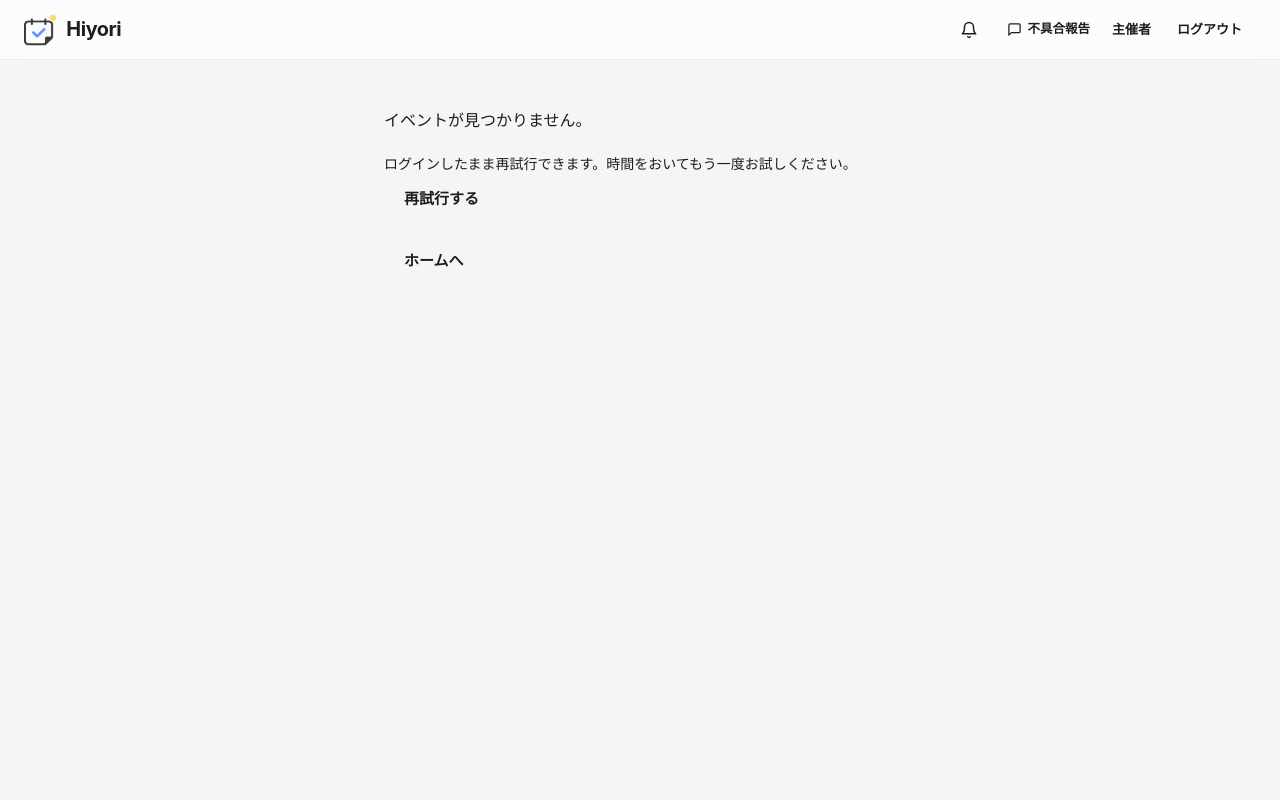
Test: 実際のセッション確認の一時失敗 › HTTP 500 は既存セッションを消さず、ログインしたままイベントを再試行できる
Check: the link "主催者" is shown, box 1112,20 -> 1151,39
Step 1. Click the button "再試行する" → (442, 199), box 384,176 -> 499,222
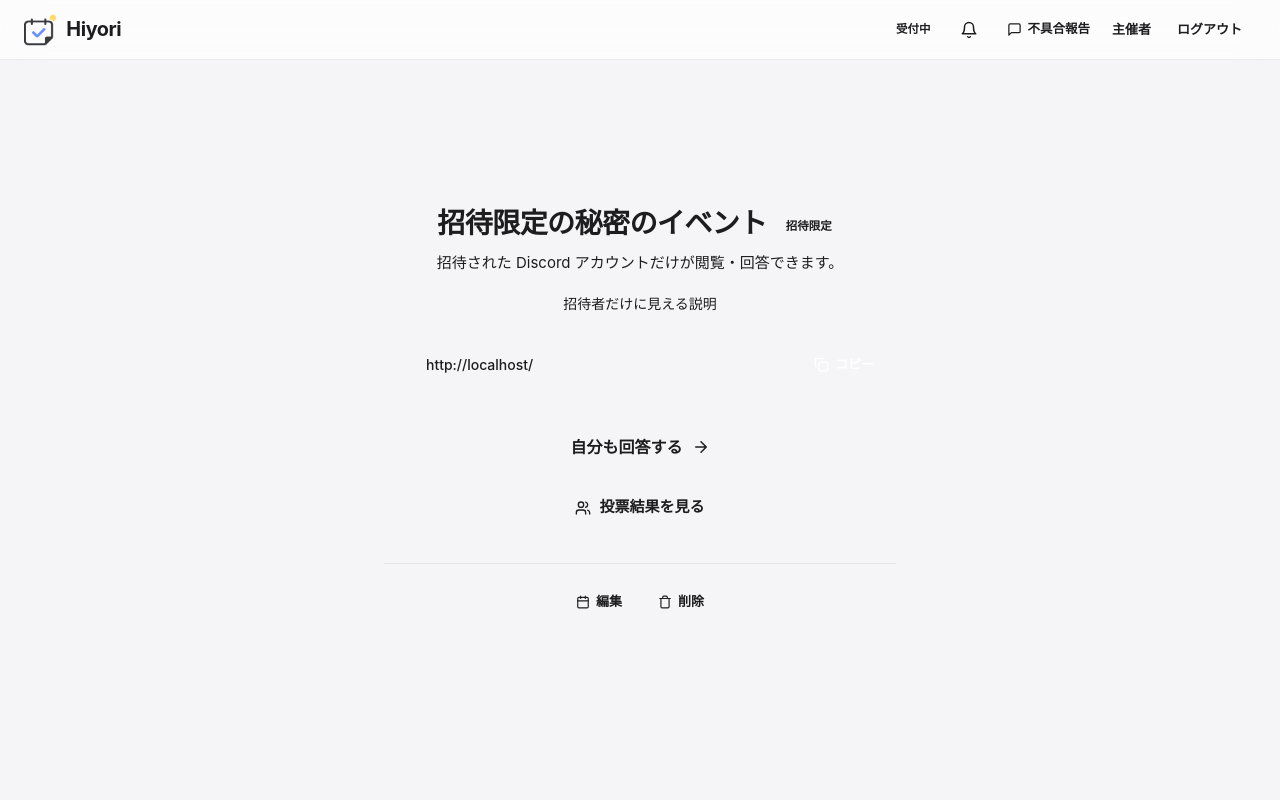
Check: the heading "招待限定の秘密のイベント" is shown, box 437,202 -> 767,244
